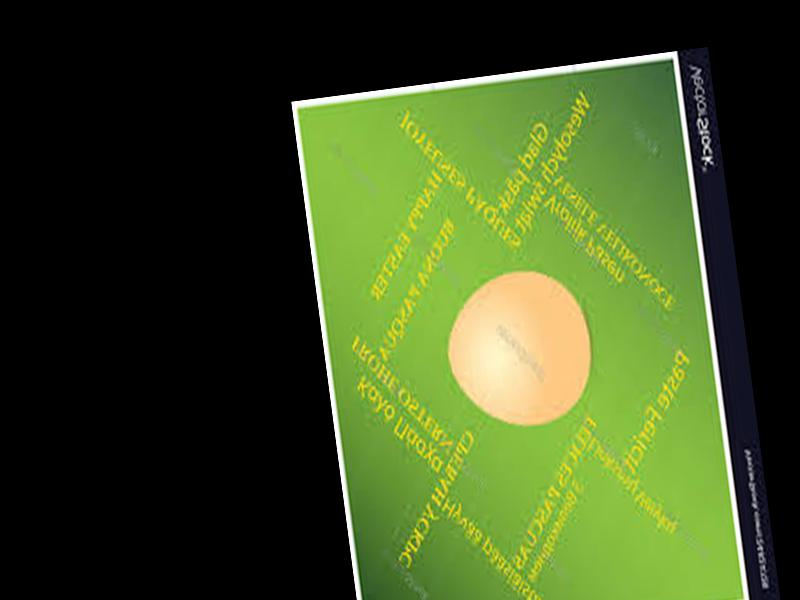Eggs: (442, 265, 598, 435)
